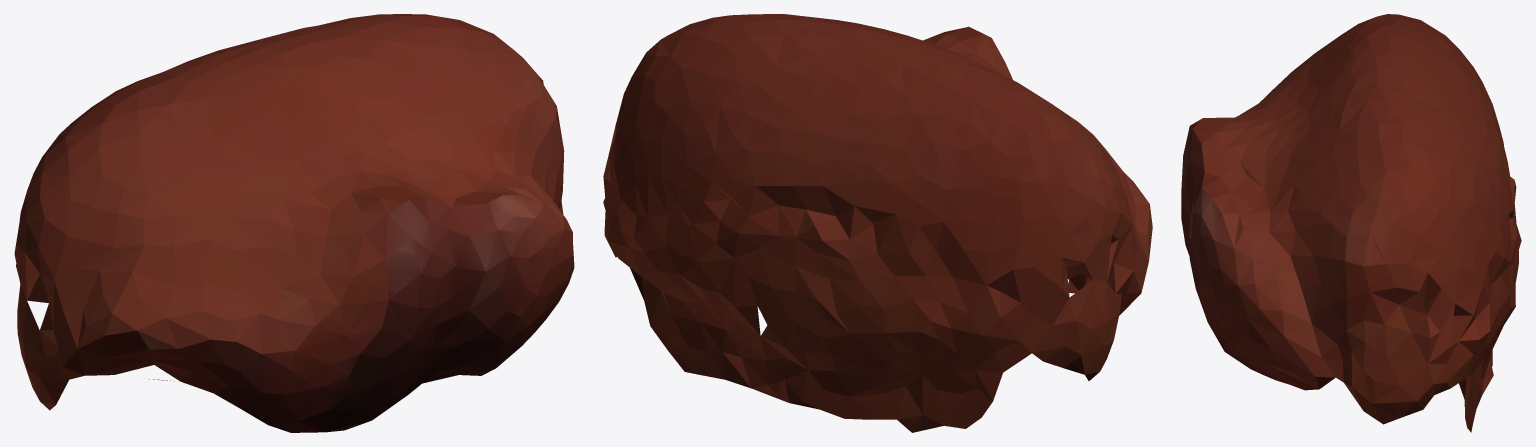
File: hairstyle_083.glb
3 renders of one model, left to right at view 1: azimuth 30°, elevation 25°; view 2: azimuth 150°, elevation 25°; view 3: azimuth 270°, elevation 25°, orthographic. The views are drawn at different scales.
Parts seen in each view (by area): view 1: geometry_0_083; view 2: geometry_0_083; view 3: geometry_0_083.
Part boxes in pixels (x1=…): geometry_0_083: x1=14, y1=14, x2=574, y2=432; geometry_0_083: x1=603, y1=14, x2=1152, y2=432; geometry_0_083: x1=1181, y1=14, x2=1521, y2=432.
Bounding box in the file's own units: 0.867 × 0.5699 × 0.5638.
Materials: 1 (1 with a texture image).
